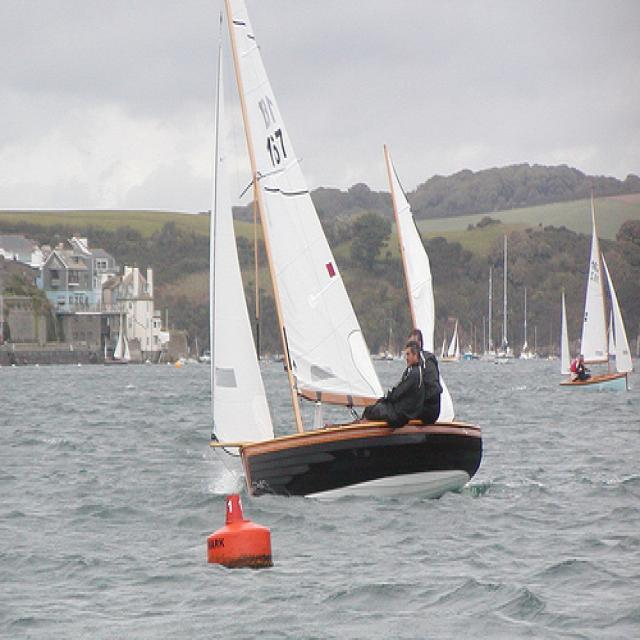Ship: (195, 1, 487, 504), (555, 172, 640, 396)
